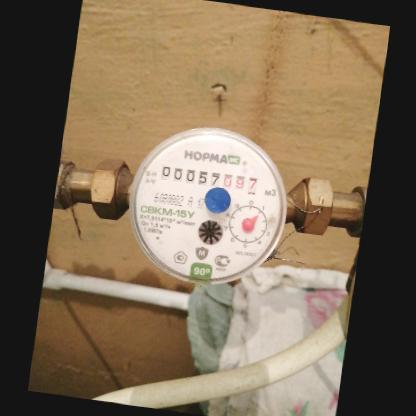digital_screen: (157, 161, 220, 192)
